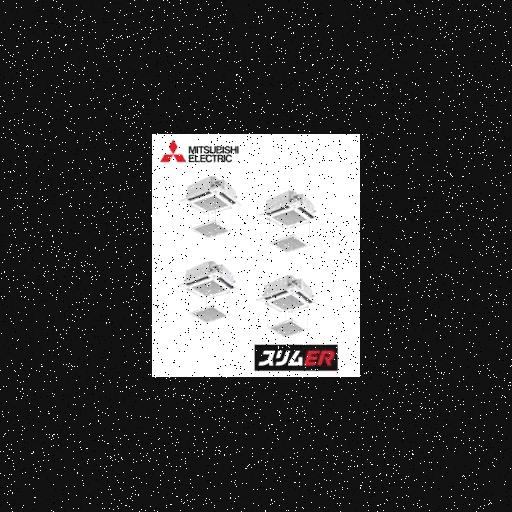4-way-ac: (183, 278, 235, 302), (259, 292, 320, 312), (186, 194, 239, 214), (267, 206, 318, 226)
